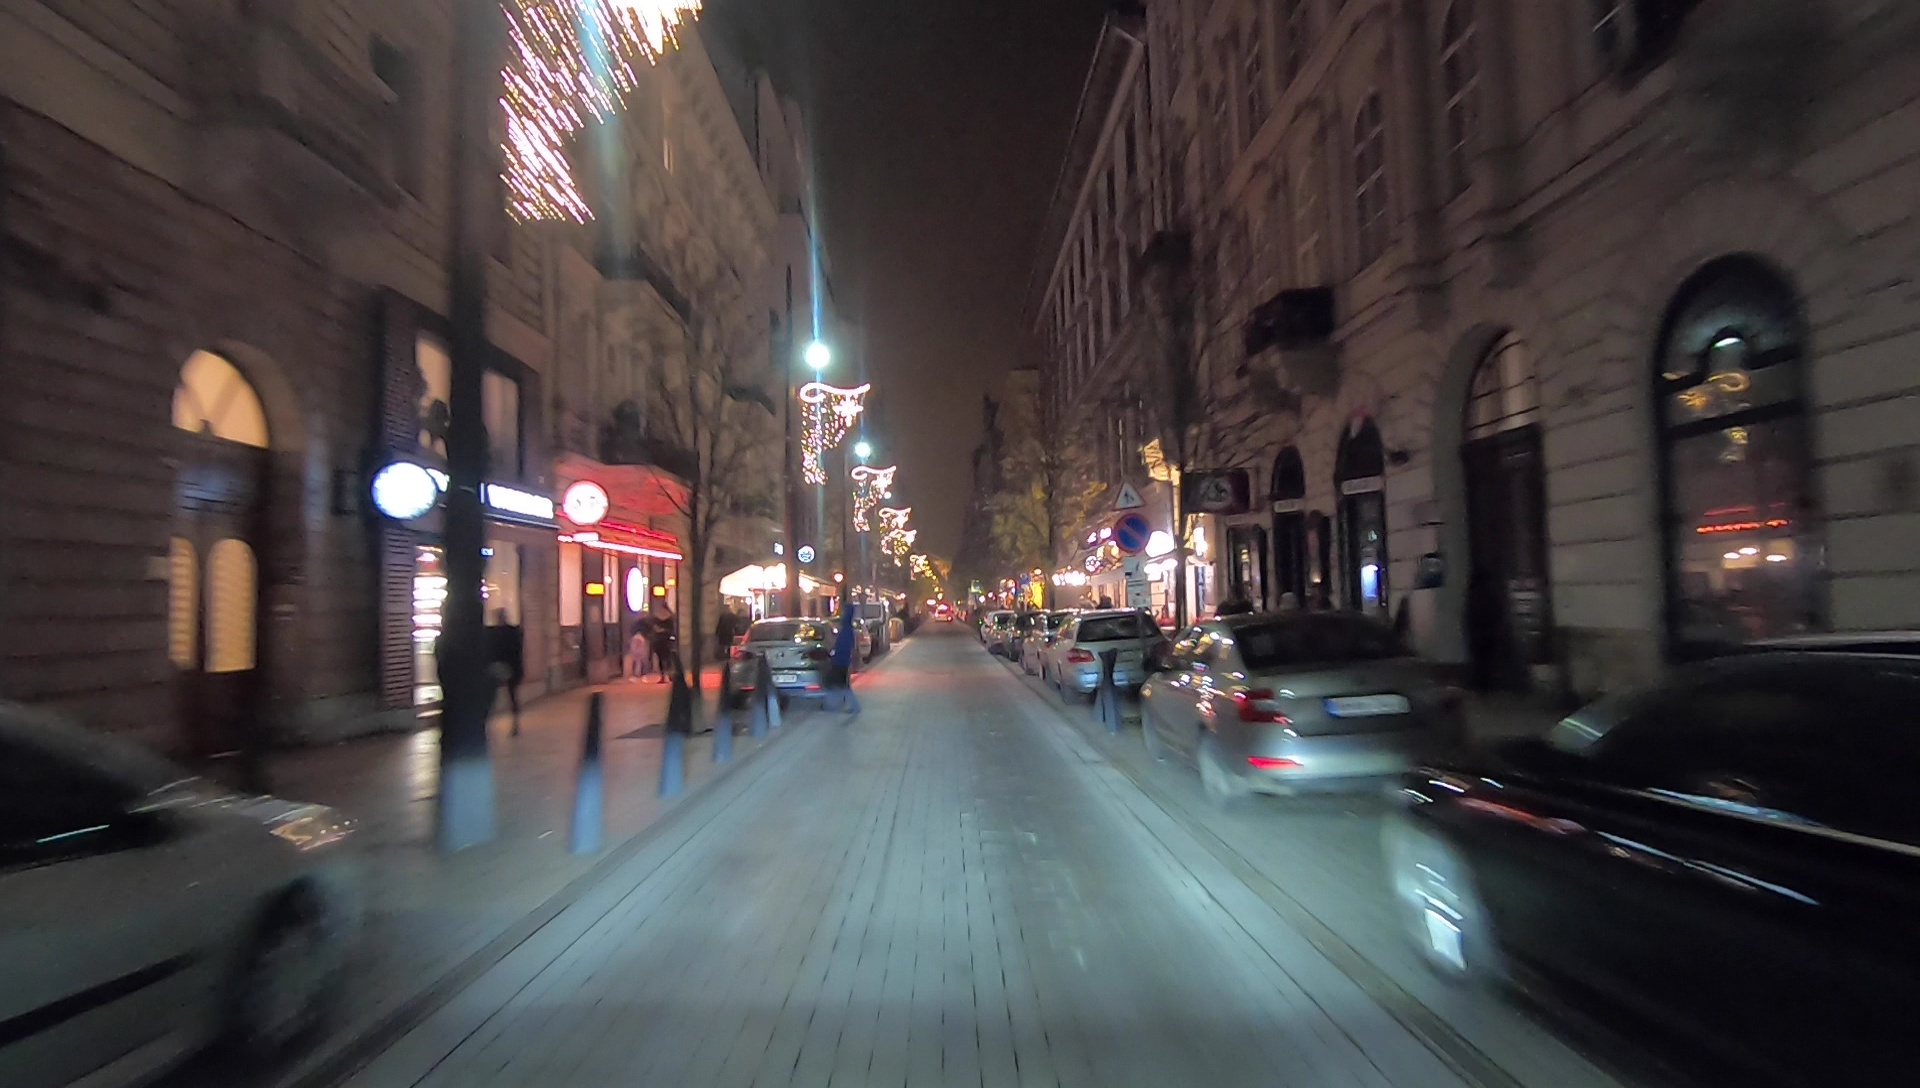person: (486, 606, 528, 741), (654, 599, 673, 686), (714, 604, 734, 673)
